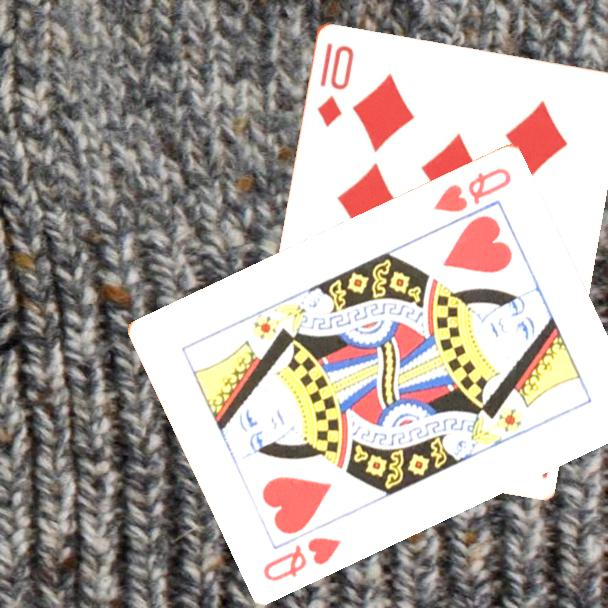d10: (313, 39, 356, 129)
h12: (430, 163, 515, 215), (259, 533, 344, 584)
